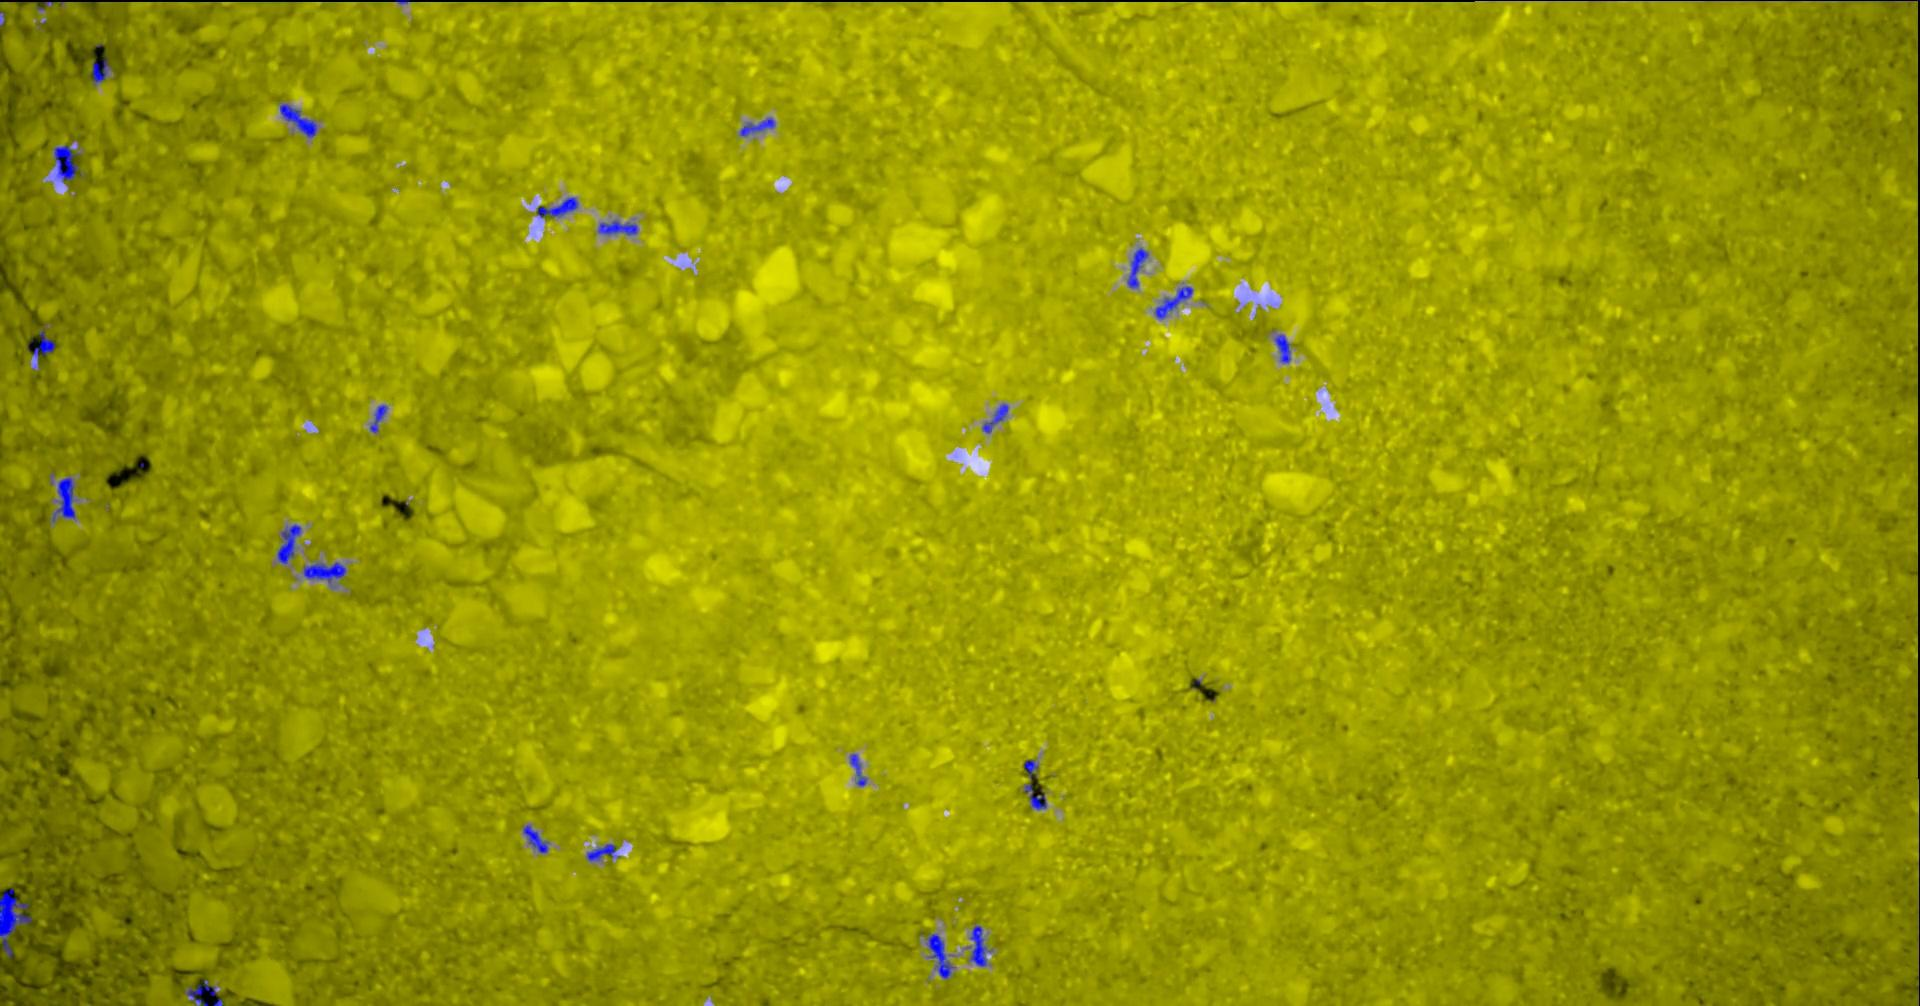ant: (0, 887, 30, 956), (279, 103, 316, 137), (1154, 286, 1192, 318), (926, 934, 952, 978), (53, 145, 80, 183), (52, 478, 75, 521), (185, 979, 222, 1005), (1126, 246, 1148, 287), (277, 525, 300, 563), (303, 561, 345, 582), (970, 925, 990, 967), (30, 329, 55, 363), (536, 197, 577, 217), (982, 403, 1008, 432), (522, 824, 549, 852), (739, 117, 775, 135), (597, 220, 637, 235), (1023, 782, 1046, 809), (850, 753, 866, 785), (585, 843, 616, 860), (1274, 334, 1290, 362), (370, 404, 386, 432), (91, 57, 109, 83), (1023, 760, 1037, 779)
